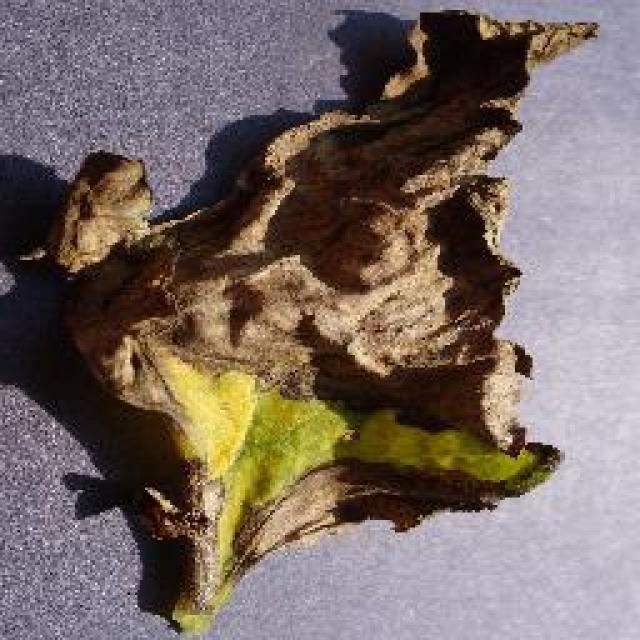Tomato___Late_blight: (47, 9, 608, 636)
